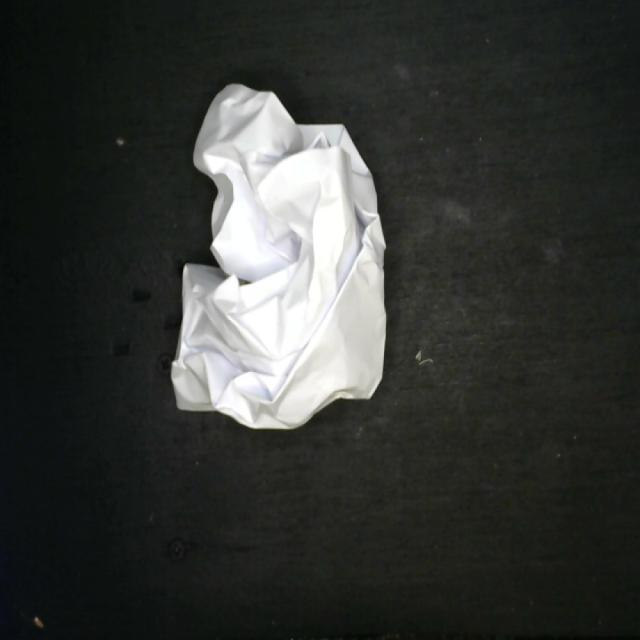biodegradable: (165, 80, 389, 434)
